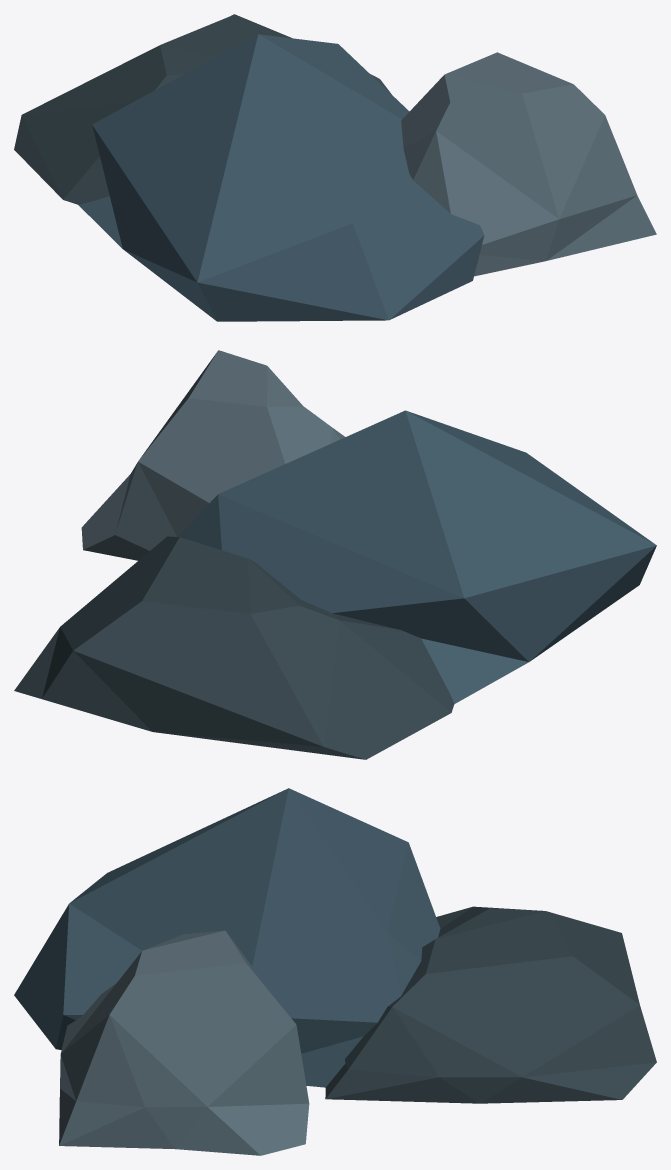
Rendered from RH_Rock01.fbx.
3 views of the same model, one above another, from view 1: azimuth 30°, elevation 25°; view 2: azimuth 150°, elevation 25°; view 3: azimuth 270°, elevation 25° (orthographic). The views are drawn at different scales.
Visible parts, largest first — view 1: RH_Rock01; view 2: RH_Rock01; view 3: RH_Rock01.
Part boxes in pixels (left/top/right/bottom): RH_Rock01: left=14, top=14, right=656, bottom=321; RH_Rock01: left=14, top=350, right=656, bottom=759; RH_Rock01: left=14, top=788, right=656, bottom=1155.
Bounding box in the file's own units: 42.39 × 17.12 × 48.44.
Materials: 1 (1 with a texture image).
